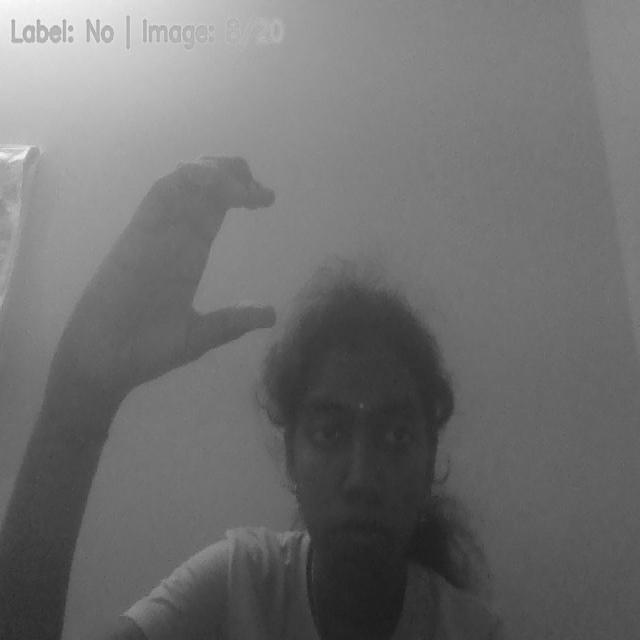No: (82, 155, 283, 396)
